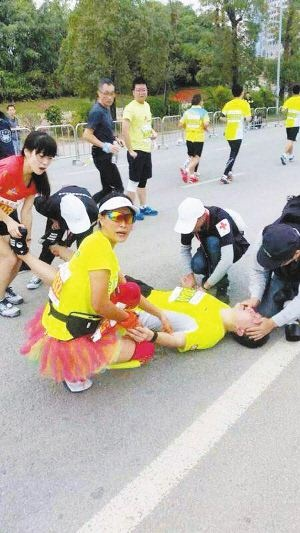falling: (112, 272, 274, 358)
